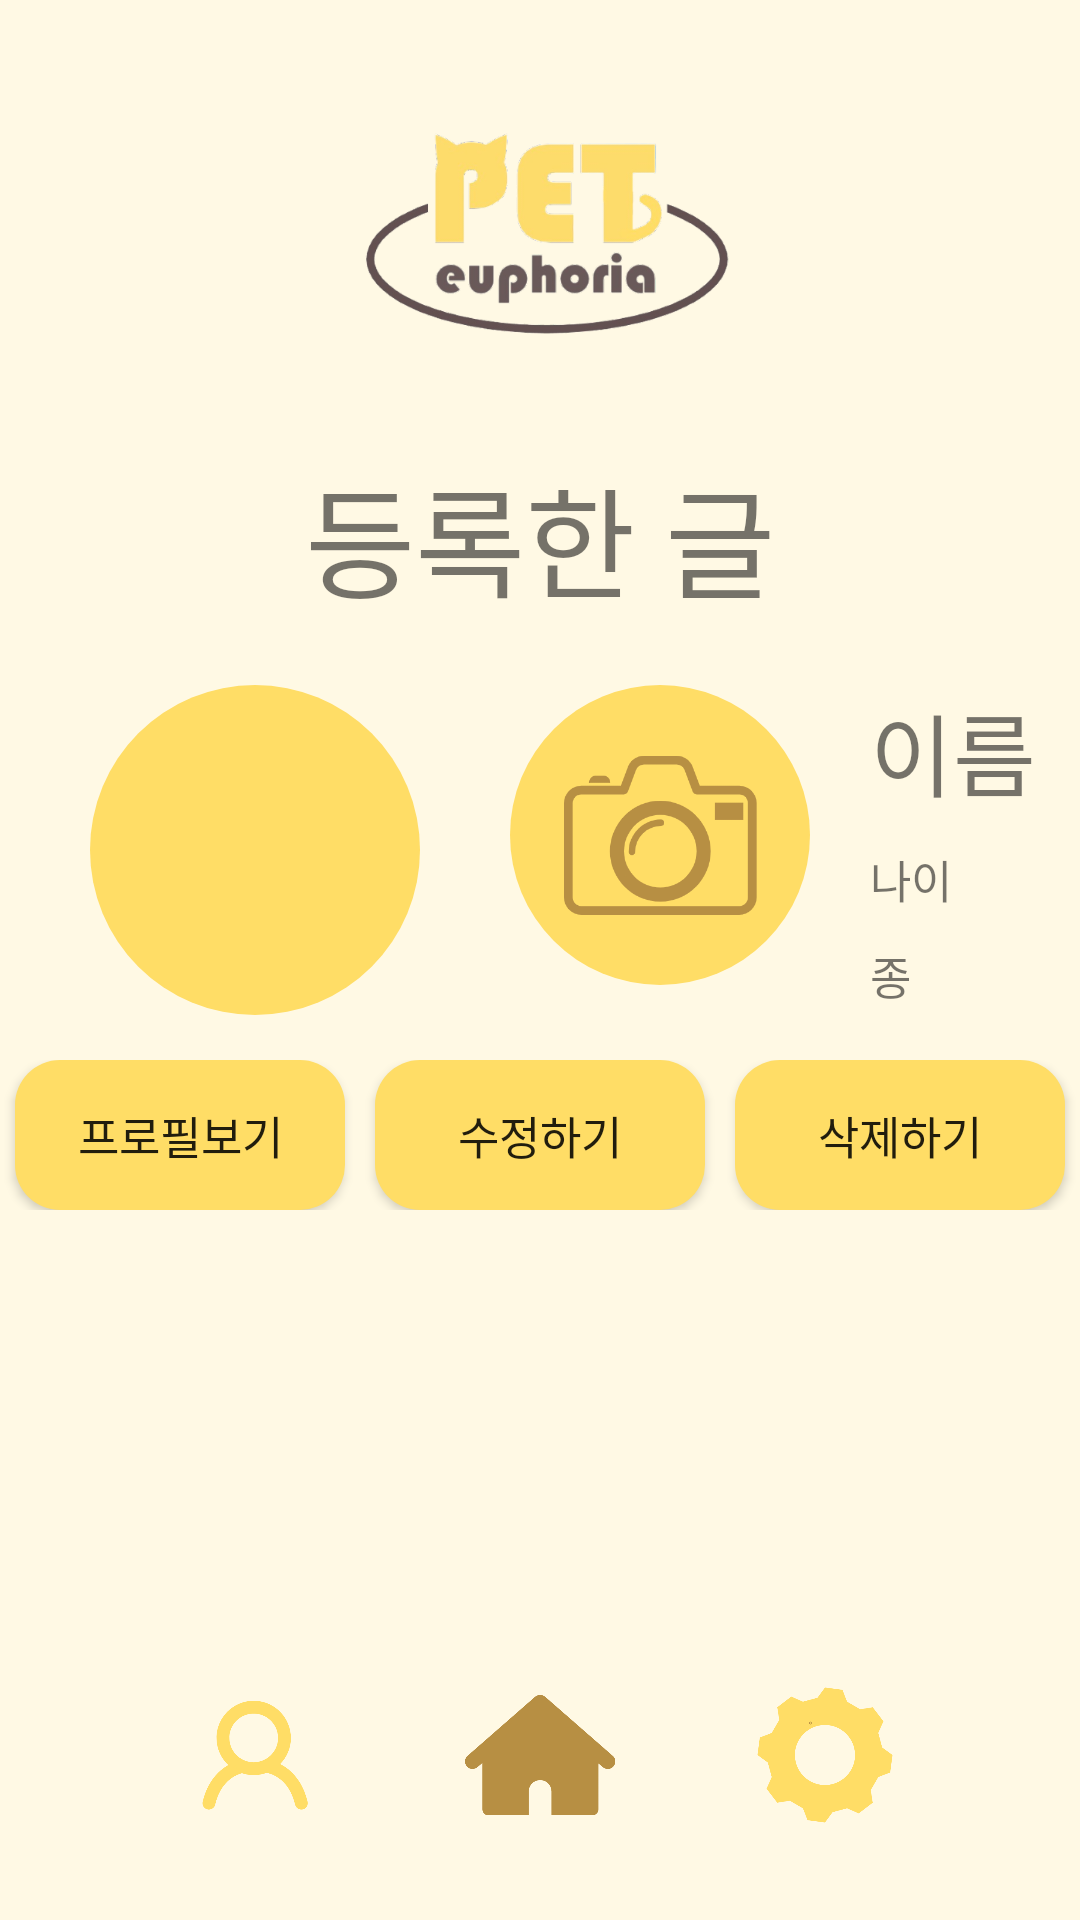

Locate icon controls on the screen. Image size 1080x1920, boxes as (x1, y1, x2, y2).
camera: (510, 685, 810, 985)
home click: (465, 1695, 615, 1815)
mypage: (202, 1701, 308, 1810)
setting: (757, 1687, 893, 1823)
